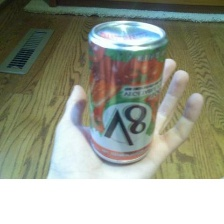can: (85, 17, 170, 164)
